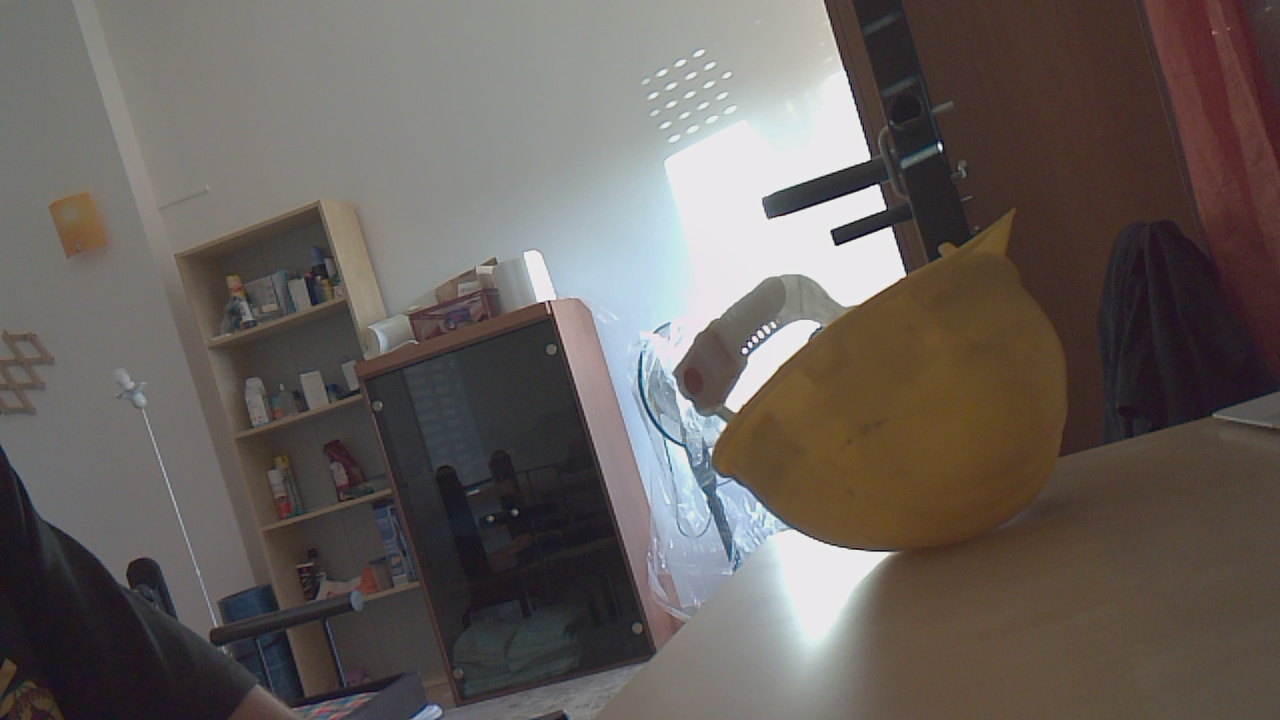Helmet: (684, 212, 1085, 559)
